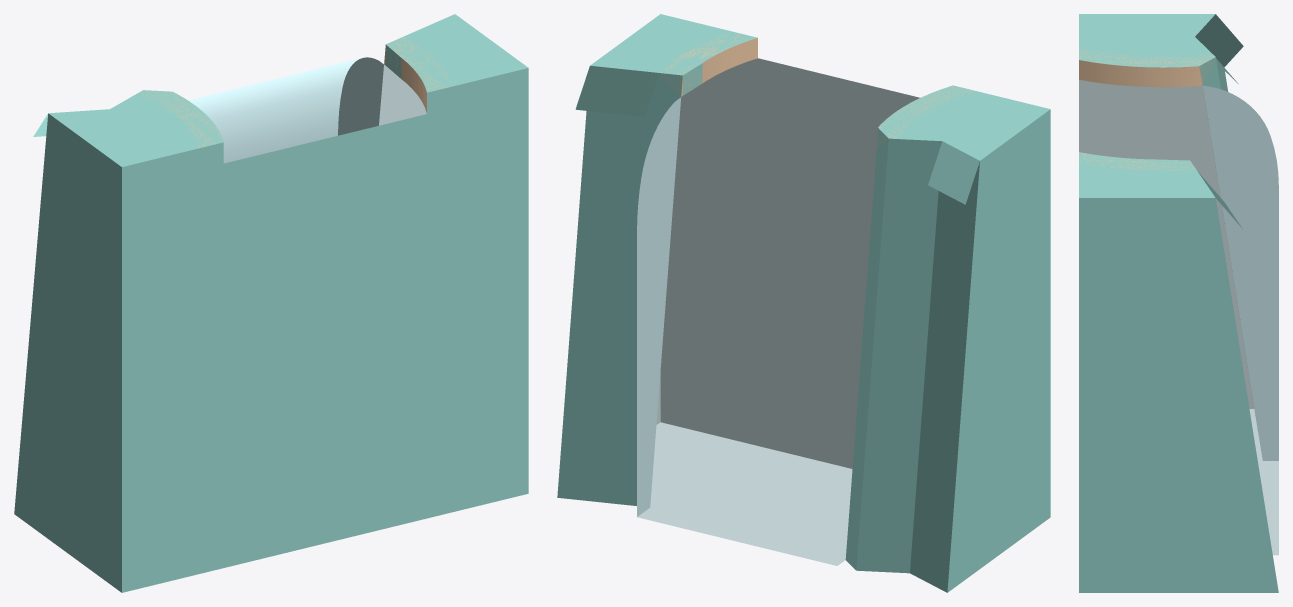
Rendered from cliffGrey_waterfallTop.glb.
The picture shows the model from 3 angles, left to right: view 1: azimuth 30°, elevation 25°; view 2: azimuth 150°, elevation 25°; view 3: azimuth 270°, elevation 25°; orthographic projection. The views are drawn at different scales.
Parts seen in each view (by area): view 1: cliffGrey_waterfallTop; view 2: cliffGrey_waterfallTop; view 3: cliffGrey_waterfallTop.
Part boxes in pixels (<box>): cliffGrey_waterfallTop: <box>14,14,528,592</box>; cliffGrey_waterfallTop: <box>557,14,1050,592</box>; cliffGrey_waterfallTop: <box>1079,14,1278,592</box>.
Bounding box in the file's own units: 10 × 10 × 4.58.
